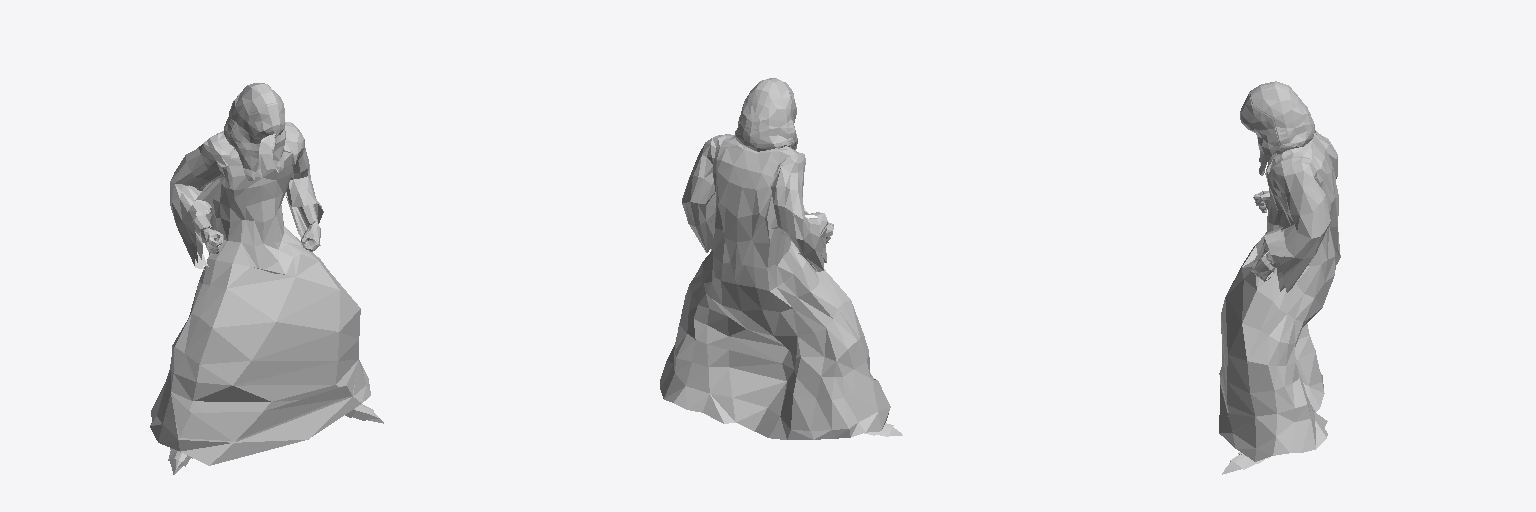
File: Rider_FlyAnim_37.obj
3 renders of one model, left to right at view 1: azimuth 30°, elevation 25°; view 2: azimuth 150°, elevation 25°; view 3: azimuth 270°, elevation 25°, orthographic.
Parts seen in each view (by area): view 1: dm_nazgulrobe_ride, dm_nazgulrobe_ride.1, dm_nazgulrobe_ride.2; view 2: dm_nazgulrobe_ride; view 3: dm_nazgulrobe_ride, dm_nazgulrobe_ride.1.
Boxes of the visible parts, <box> form: dm_nazgulrobe_ride: <box>150,83,370,465</box>; dm_nazgulrobe_ride.1: <box>194,204,320,253</box>; dm_nazgulrobe_ride.2: <box>168,404,383,474</box>; dm_nazgulrobe_ride: <box>660,78,890,439</box>; dm_nazgulrobe_ride: <box>1219,81,1340,461</box>; dm_nazgulrobe_ride.1: <box>1251,191,1275,281</box>.
Bounding box in the file's own units: 0.2182 × 0.3312 × 0.1051.